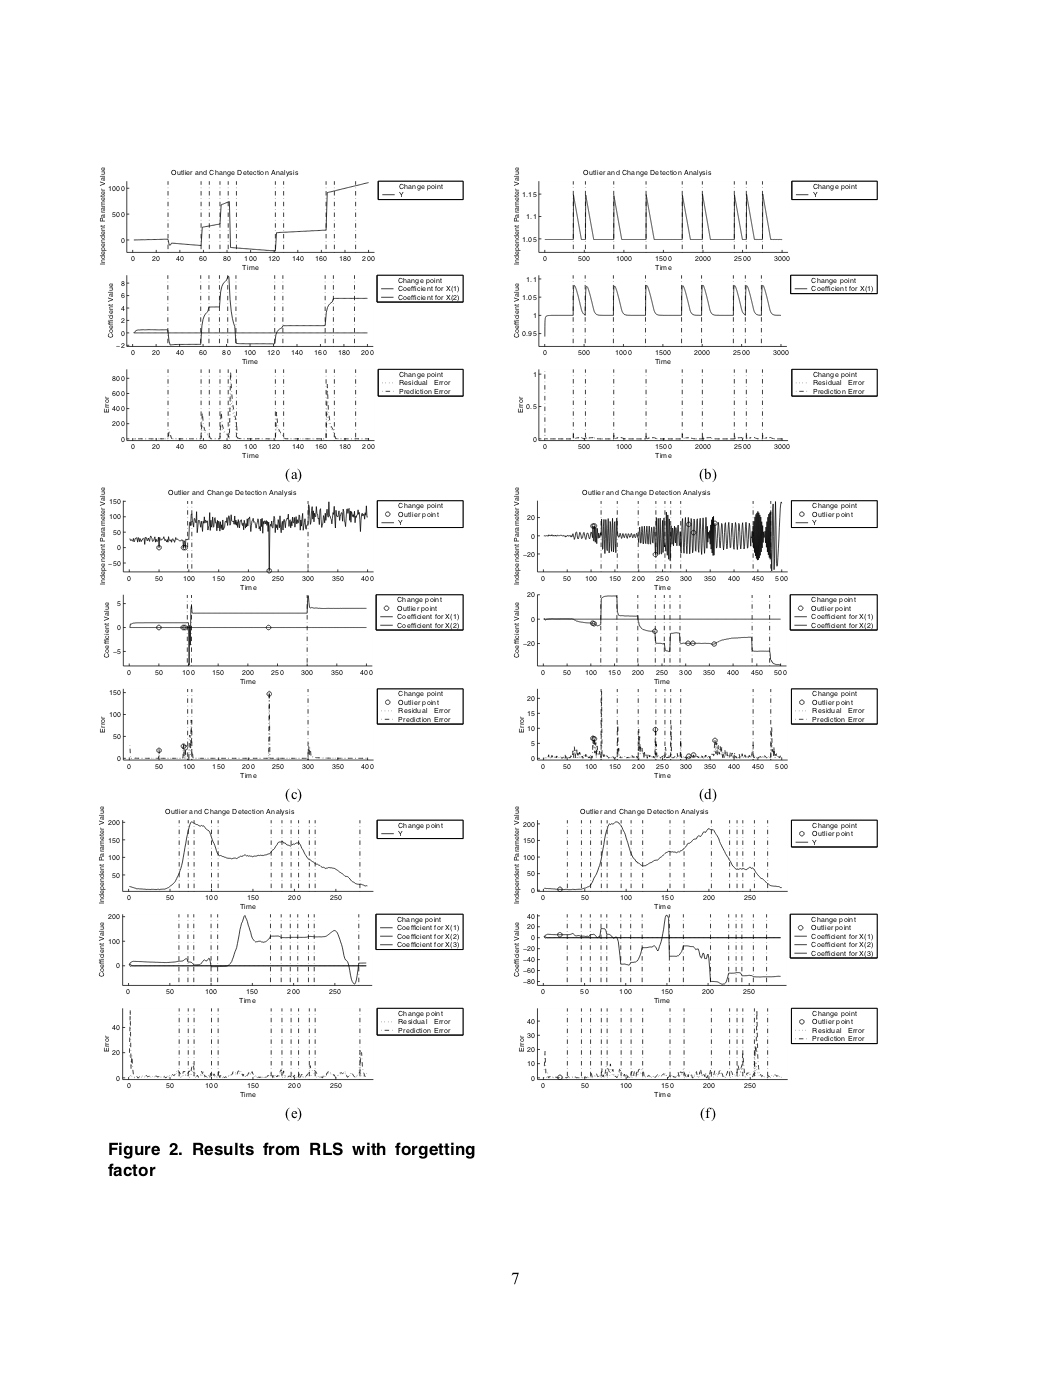figure: (99, 805, 463, 909), (514, 805, 877, 909), (100, 487, 463, 590), (514, 167, 877, 267), (100, 167, 463, 267), (514, 487, 877, 585), (513, 590, 877, 679), (513, 274, 877, 360), (104, 1007, 463, 1093), (98, 912, 463, 994), (513, 912, 877, 994), (100, 686, 463, 769), (107, 272, 463, 356), (104, 367, 463, 449), (518, 367, 877, 449), (519, 686, 877, 769), (519, 1006, 877, 1088), (103, 592, 463, 668)
